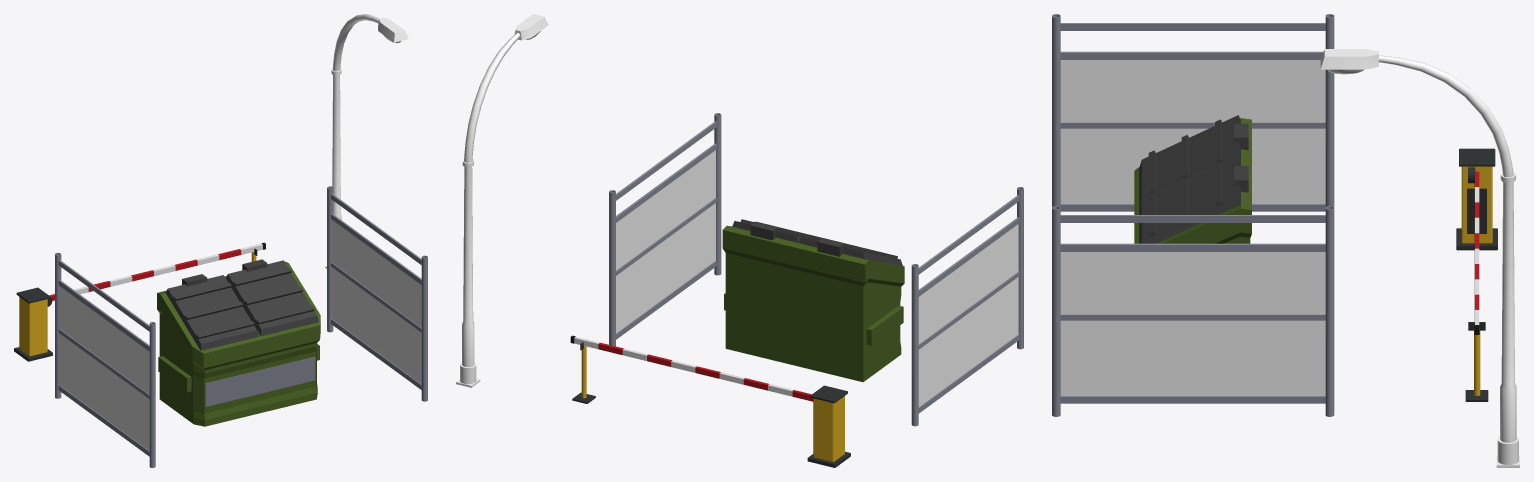
File: combo-waste-service-point.glb
3 renders of one model, left to right at view 1: azimuth 30°, elevation 25°; view 2: azimuth 150°, elevation 25°; view 3: azimuth 270°, elevation 25°, orthographic. The views are drawn at different scales.
Parts seen in each view (by area): view 1: 00_asset-080, 02_asset-077, 01_asset-077, 03_asset-078, 04_asset-075; view 2: 00_asset-080, 01_asset-077, 02_asset-077, 03_asset-078, 04_asset-075; view 3: 02_asset-077, 01_asset-077, 00_asset-080, 04_asset-075, 03_asset-078.
Part boxes in pixels (box(x1,y1,x2,y2)): 00_asset-080: box(157, 259, 320, 426); 02_asset-077: box(327, 186, 427, 401); 01_asset-077: box(55, 252, 155, 467); 03_asset-078: box(14, 242, 265, 361); 04_asset-075: box(325, 14, 408, 268); 00_asset-080: box(722, 219, 904, 382); 01_asset-077: box(911, 187, 1023, 426); 02_asset-077: box(609, 113, 721, 346); 03_asset-078: box(570, 335, 850, 467); 04_asset-075: box(456, 14, 548, 387); 02_asset-077: box(1052, 206, 1334, 416); 01_asset-077: box(1052, 14, 1334, 211); 00_asset-080: box(1134, 115, 1251, 243); 04_asset-075: box(1320, 49, 1519, 467); 03_asset-078: box(1456, 148, 1497, 401).
Bounding box in the file's own units: 5.15 × 3.99 × 4.12.
